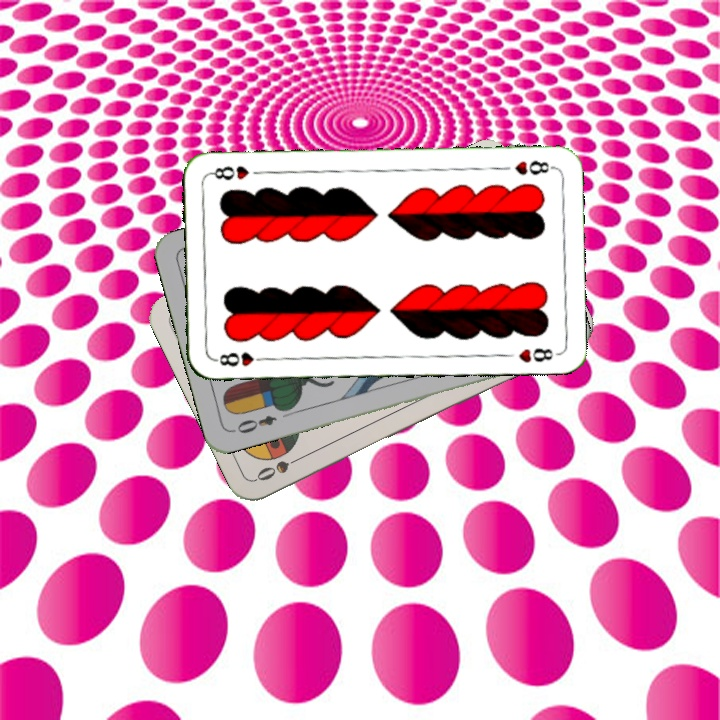EO: (228, 411, 279, 436)
H8: (211, 348, 270, 370), (510, 156, 556, 178)
SO: (252, 450, 308, 484)
